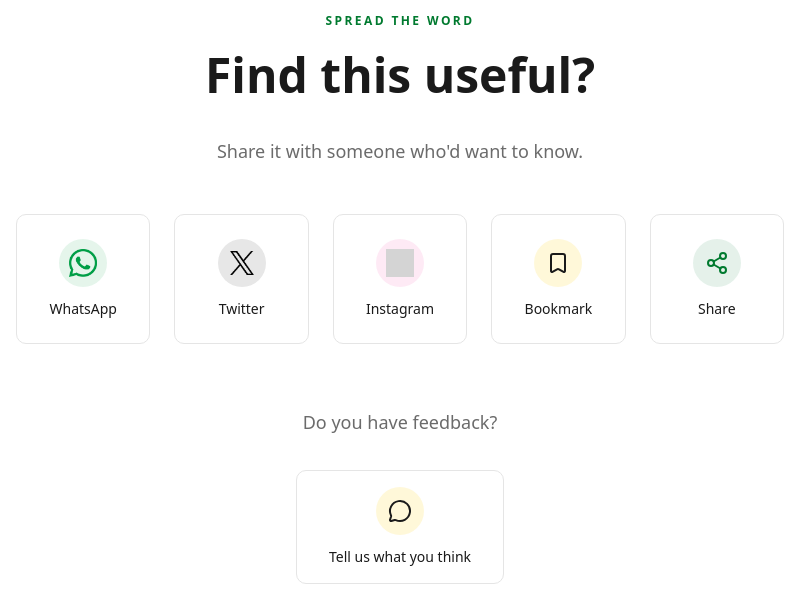
Test: ShareSection › should toggle bookmark tooltip when bookmark button is clicked
# user clicks the bookmark button
Click the button with aria-label "Bookmark this page" at (558, 279), box [491,214,626,344]
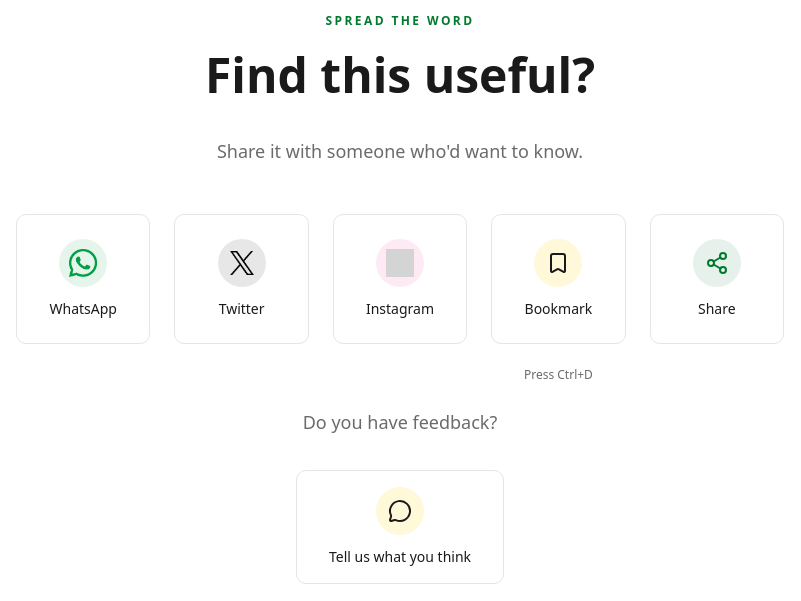
Expected: the text "Press Ctrl+D" is shown, [524,367,593,383]
